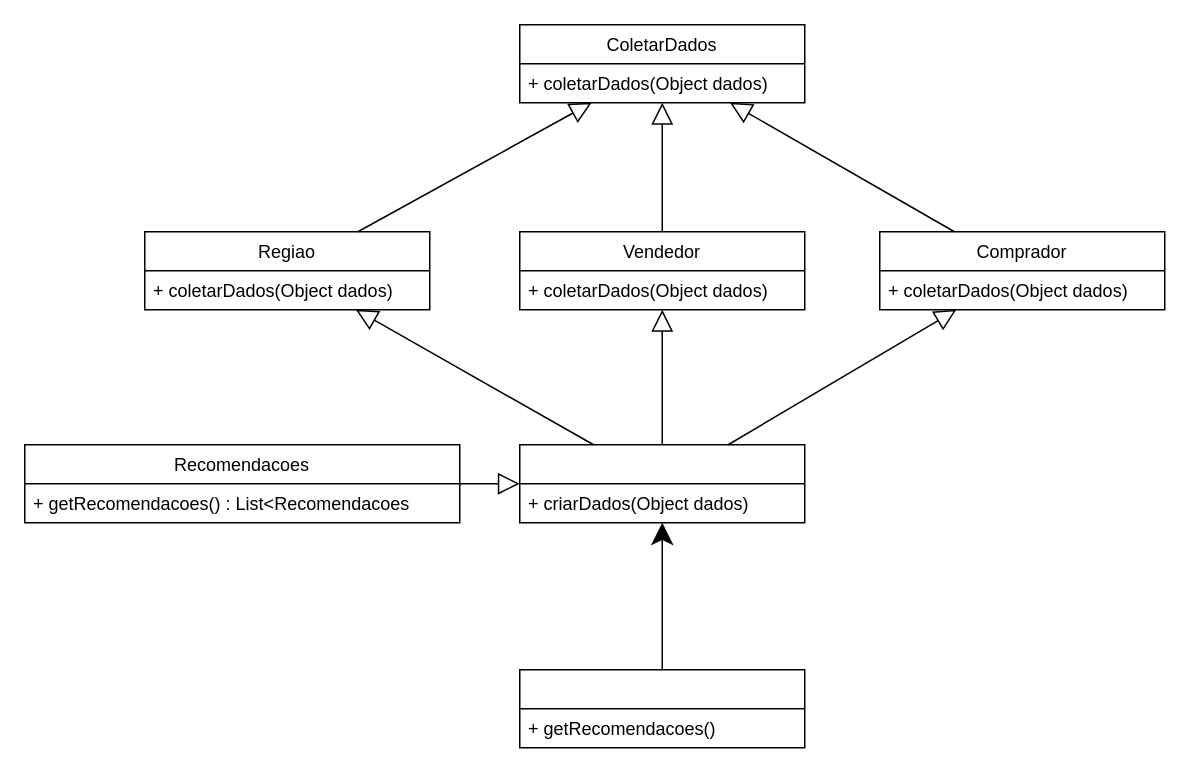
This 1190x773 diagram has some shape labels left out. Here are the shapes that lost their labels. From the top down, the box of each, then its label:
(518, 443, 805, 523): GerenciadorRecomendacoes
(518, 668, 805, 748): Usuario
